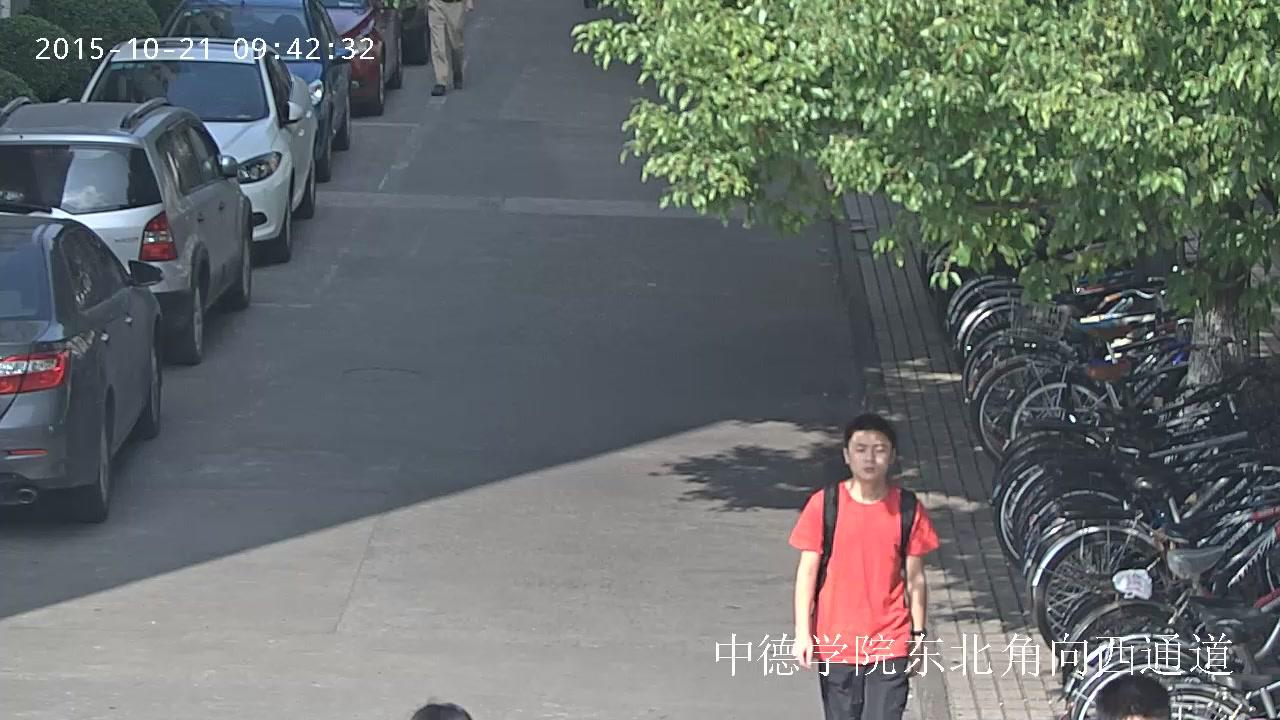person: (788, 412, 939, 720), (426, 0, 465, 95)
